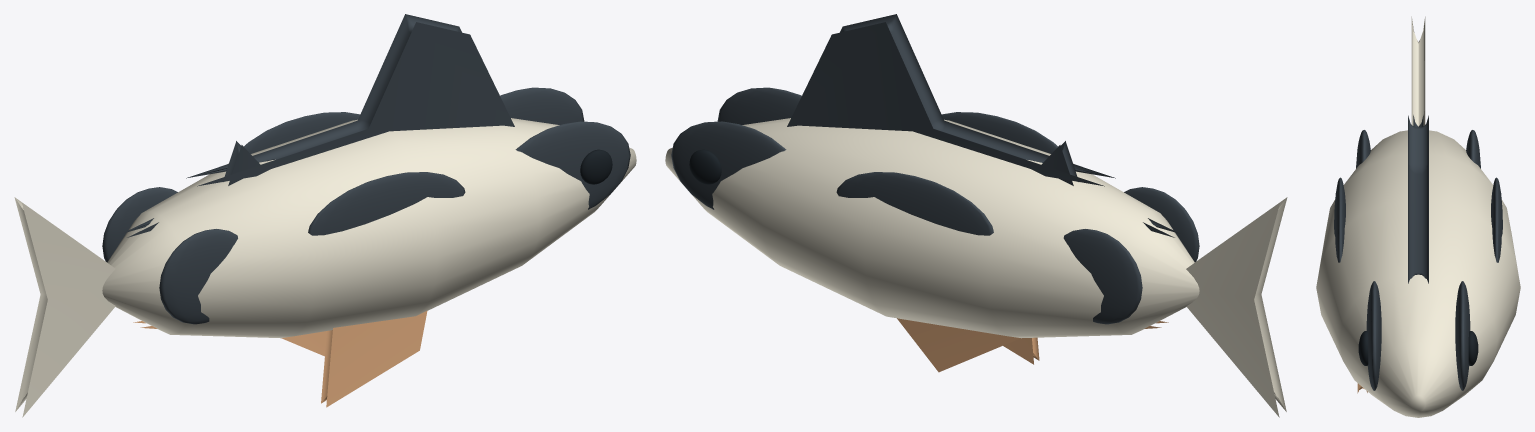
Rendered from PandaCory.fbx.
3 renders of one model, left to right at view 1: azimuth 30°, elevation 25°; view 2: azimuth 150°, elevation 25°; view 3: azimuth 270°, elevation 25°, orthographic. The views are drawn at different scales.
Visible parts, largest first — view 1: Panda cory rounded body, Panda cory dark dorsal fin, Panda cory caudal fin, Panda cory pectoral fin, Panda cory saddle, Panda cory eye mask, Panda cory tail patch, Panda cory eye mask.001, Panda cory saddle.001, Panda cory tail patch.001, Panda cory eye, Panda cory adipose fin (+1 smaller); view 2: Panda cory rounded body, Panda cory dark dorsal fin, Panda cory caudal fin, Panda cory saddle.001, Panda cory eye mask.001, Panda cory tail patch.001, Panda cory anal fin, Panda cory eye mask, Panda cory saddle, Panda cory tail patch, Panda cory eye.001, Panda cory adipose fin (+1 smaller); view 3: Panda cory rounded body, Panda cory dark dorsal fin, Panda cory caudal fin, Panda cory eye mask, Panda cory eye mask.001, Panda cory saddle, Panda cory saddle.001, Panda cory tail patch.001, Panda cory tail patch, Panda cory eye, Panda cory eye.001.
Boxes of the visible parts, bbox=[...] form: Panda cory rounded body: bbox=[102, 118, 636, 338]; Panda cory dark dorsal fin: bbox=[186, 14, 514, 186]; Panda cory caudal fin: bbox=[14, 197, 115, 417]; Panda cory pectoral fin: bbox=[321, 310, 427, 407]; Panda cory saddle: bbox=[308, 172, 465, 235]; Panda cory eye mask: bbox=[515, 121, 630, 209]; Panda cory tail patch: bbox=[159, 229, 237, 324]; Panda cory eye mask.001: bbox=[500, 87, 584, 124]; Panda cory saddle.001: bbox=[244, 112, 360, 153]; Panda cory tail patch.001: bbox=[102, 187, 177, 262]; Panda cory eye: bbox=[580, 149, 612, 184]; Panda cory adipose fin: bbox=[122, 141, 260, 237]; Panda cory rounded body: bbox=[665, 118, 1199, 338]; Panda cory dark dorsal fin: bbox=[787, 14, 1115, 186]; Panda cory caudal fin: bbox=[1186, 197, 1287, 417]; Panda cory saddle.001: bbox=[836, 172, 993, 235]; Panda cory eye mask.001: bbox=[671, 121, 786, 209]; Panda cory tail patch.001: bbox=[1063, 229, 1142, 324]; Panda cory anal fin: bbox=[897, 318, 1168, 372]; Panda cory eye mask: bbox=[717, 87, 801, 124]; Panda cory saddle: bbox=[941, 112, 1057, 153]; Panda cory tail patch: bbox=[1124, 187, 1199, 261]; Panda cory eye.001: bbox=[689, 149, 721, 184]; Panda cory adipose fin: bbox=[1041, 141, 1179, 237]; Panda cory rounded body: bbox=[1316, 130, 1520, 417]; Panda cory dark dorsal fin: bbox=[1408, 115, 1428, 283]; Panda cory caudal fin: bbox=[1411, 16, 1425, 126]; Panda cory eye mask: bbox=[1366, 281, 1381, 390]; Panda cory eye mask.001: bbox=[1455, 281, 1470, 390]; Panda cory saddle: bbox=[1334, 177, 1345, 262]; Panda cory saddle.001: bbox=[1491, 177, 1502, 262]; Panda cory tail patch.001: bbox=[1466, 130, 1480, 168]; Panda cory tail patch: bbox=[1356, 130, 1370, 168]; Panda cory eye: bbox=[1358, 331, 1368, 365]; Panda cory eye.001: bbox=[1468, 331, 1478, 365].
Size of the model in its own units: 1.46 by 0.7686 by 0.44.
